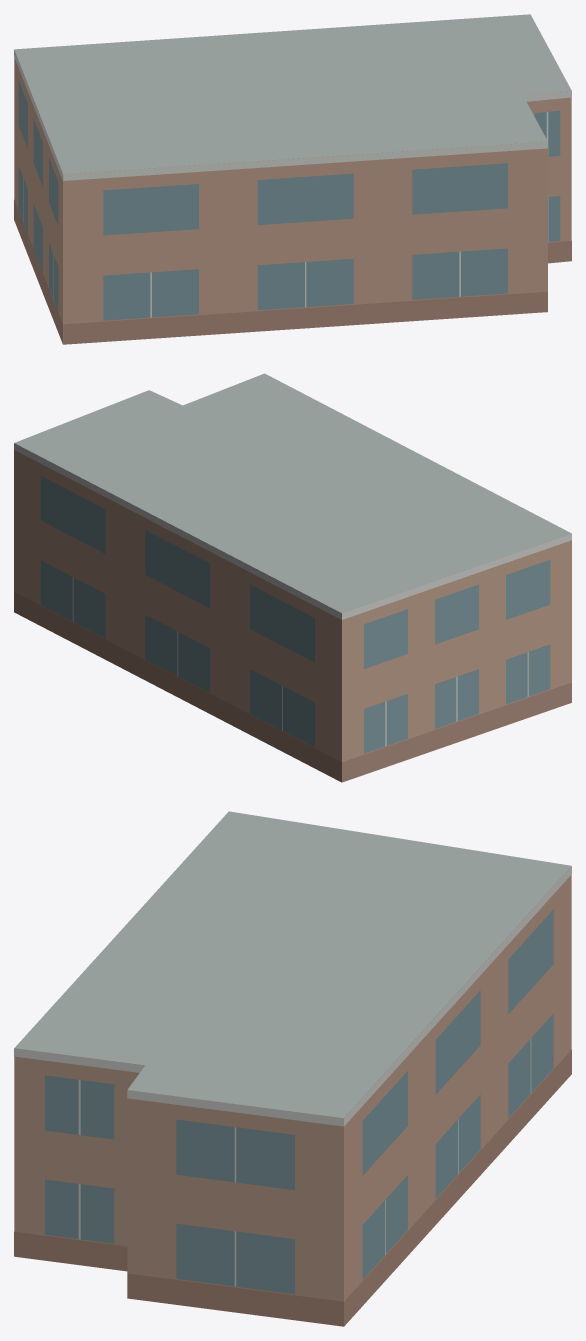
Rendered from survey-upis-32683214.glb.
3 views of the same model, one above another, from view 1: azimuth 30°, elevation 25°; view 2: azimuth 150°, elevation 25°; view 3: azimuth 270°, elevation 25° (orthographic). The views are drawn at different scales.
Visible parts, largest first — view 1: survey-upis-32683214.tmp; view 2: survey-upis-32683214.tmp; view 3: survey-upis-32683214.tmp.
Part boxes in pixels (x1,y1,x2,y2): survey-upis-32683214.tmp: [14, 14, 571, 344]; survey-upis-32683214.tmp: [14, 373, 571, 782]; survey-upis-32683214.tmp: [14, 811, 571, 1326].
Size of the model in its own units: 19.28 by 6.1 by 14.81.
